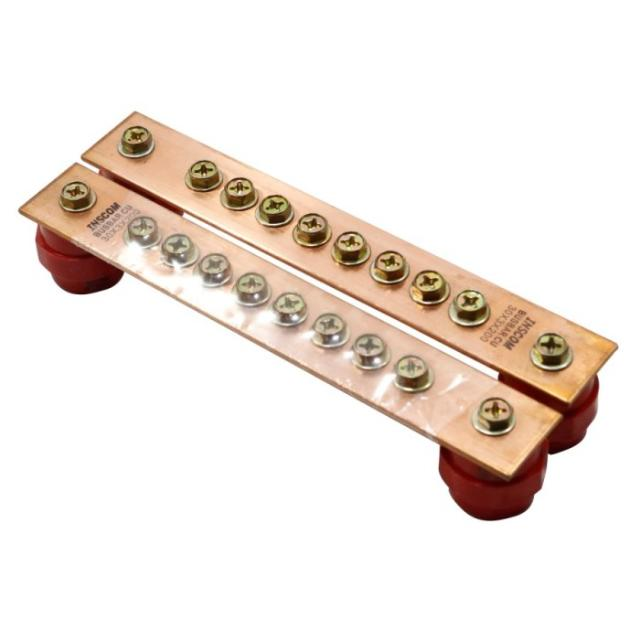busbar: (19, 110, 618, 521)
